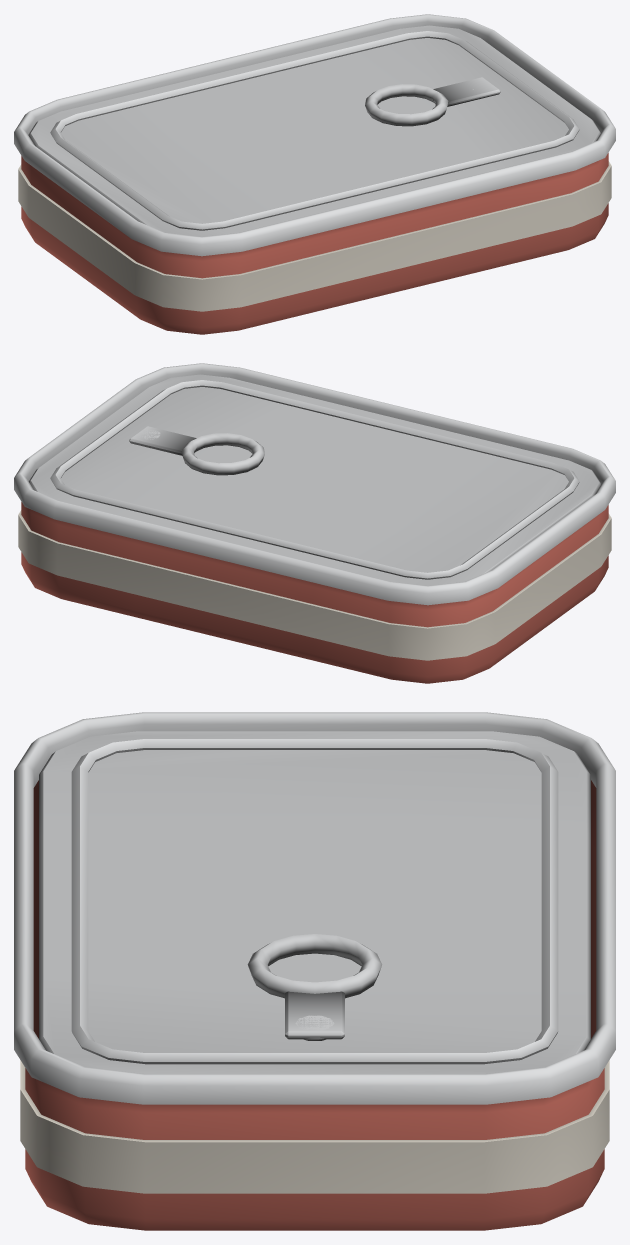
Rendered from food_fish_can.glb.
3 views of the same model, one above another, from view 1: azimuth 30°, elevation 25°; view 2: azimuth 150°, elevation 25°; view 3: azimuth 270°, elevation 25° (orthographic). The views are drawn at different scales.
Parts seen in each view (by area): view 1: PART; view 2: PART; view 3: PART.
Part boxes in pixels (x1=…): PART: x1=14, y1=14, x2=615, y2=334; PART: x1=14, y1=363, x2=615, y2=683; PART: x1=14, y1=712, x2=615, y2=1230.
Size of the model in its own units: 0.1601 by 0.0348 by 0.1101.
